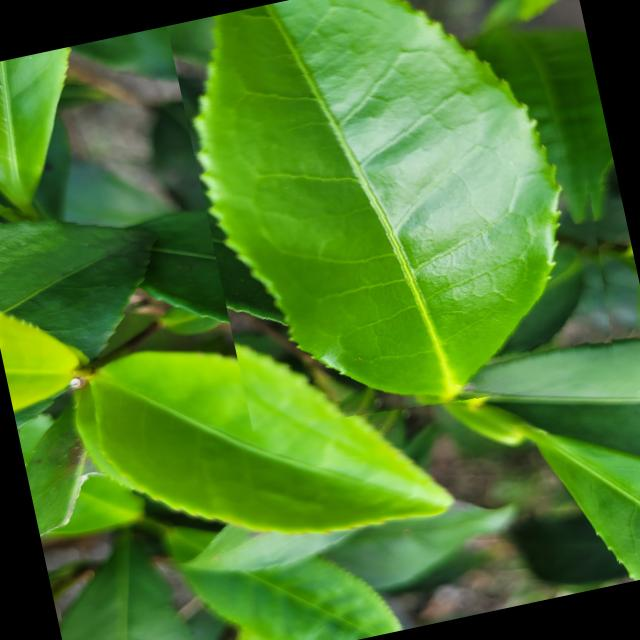Category B(2-4 days): (165, 0, 640, 454)
